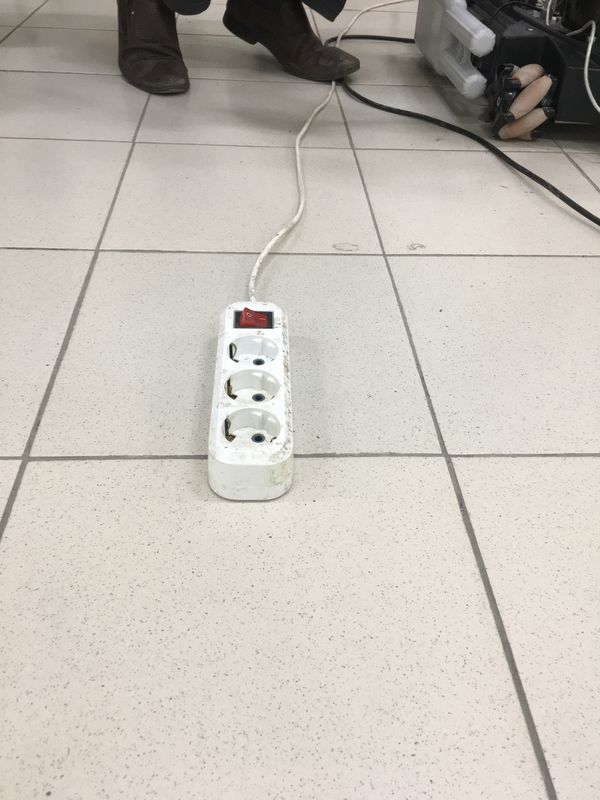socket: (199, 291, 306, 508)
